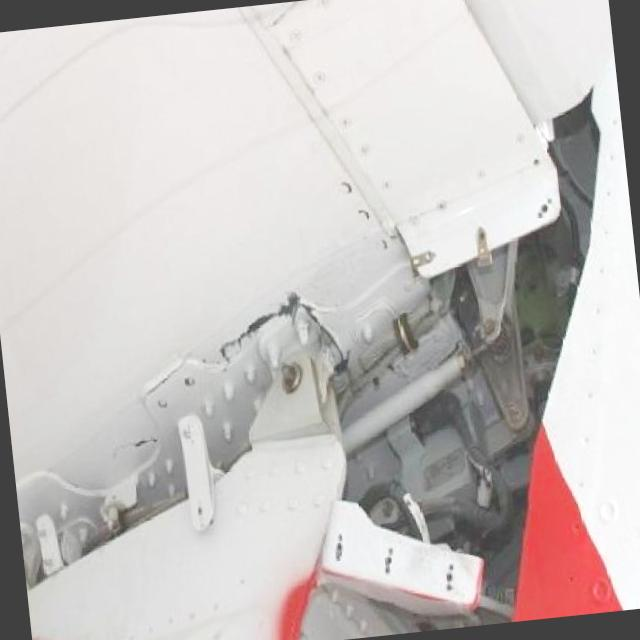crack: (220, 294, 302, 347)
